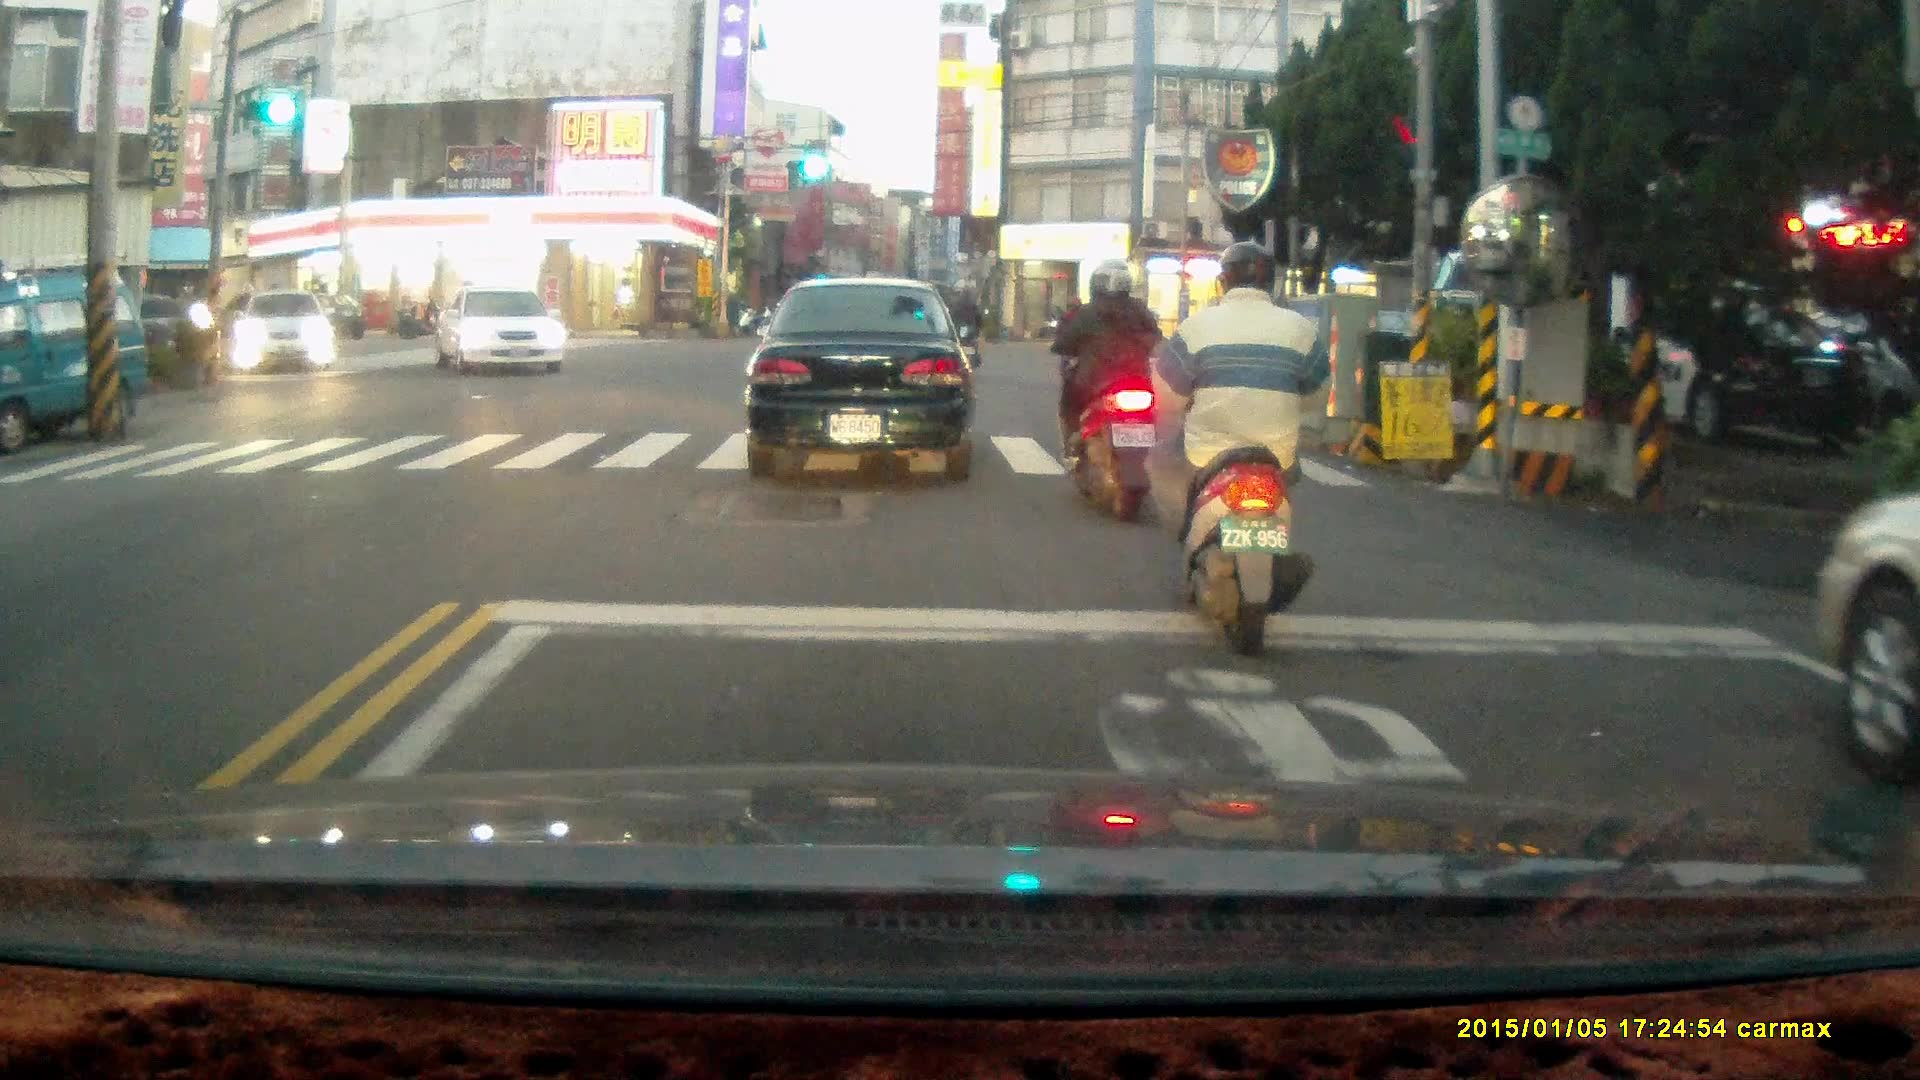rider: (1142, 234, 1336, 640), (1035, 257, 1171, 524), (941, 287, 987, 379)
vehicle: (1549, 276, 1878, 438), (744, 276, 975, 479), (1803, 484, 1920, 791), (1, 266, 153, 458), (435, 289, 569, 376), (230, 291, 339, 377)
